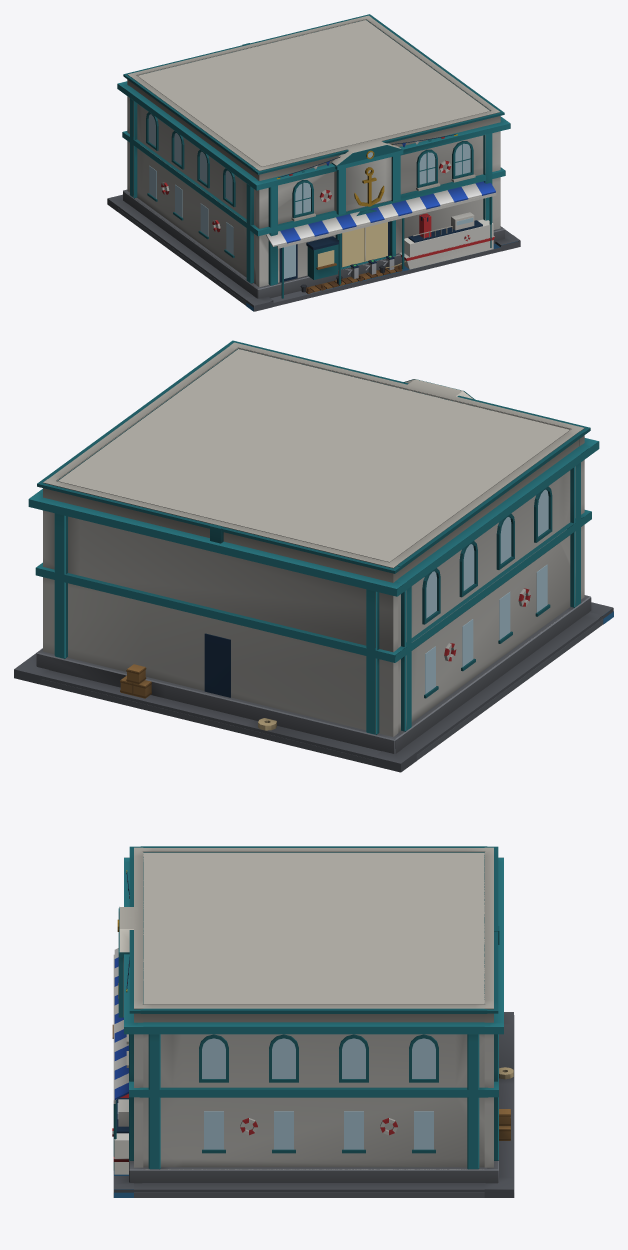
Rendered from DuckInspectorFloor.fbx.
3 renders of one model, top to bottom at view 1: azimuth 30°, elevation 25°; view 2: azimuth 150°, elevation 25°; view 3: azimuth 270°, elevation 25°, orthographic. The views are drawn at different scales.
Parts seen in each view (by area): view 1: DK_S_All, DK_F_Rings, DK_F_Smooth, DK_F_Glass, DK_F_Props, DK_F_Quiet; view 2: DK_F_Rings, DK_S_All, DK_F_Smooth, DK_F_Quiet, DK_F_Glass, DK_F_Props; view 3: DK_F_Rings, DK_S_All, DK_F_Smooth, DK_F_Glass, DK_F_Quiet, DK_F_Props.
Boxes of the visible parts, x1,y1,x2,y2 form: DK_S_All: (118, 20, 500, 311); DK_F_Rings: (118, 15, 509, 298); DK_F_Smooth: (107, 14, 520, 311); DK_F_Glass: (148, 114, 473, 278); DK_F_Props: (242, 43, 495, 279); DK_F_Quiet: (108, 194, 519, 305); DK_F_Rings: (29, 342, 598, 753); DK_S_All: (41, 349, 602, 772); DK_F_Smooth: (14, 340, 613, 772); DK_F_Quiet: (14, 602, 612, 763); DK_F_Glass: (425, 489, 548, 694); DK_F_Props: (120, 524, 271, 730); DK_F_Rings: (118, 847, 503, 1183); DK_S_All: (113, 852, 514, 1197); DK_F_Smooth: (112, 846, 513, 1197); DK_F_Glass: (117, 1038, 435, 1149); DK_F_Quiet: (114, 1012, 513, 1189); DK_F_Props: (113, 926, 513, 1159).
Bounding box in the file's own units: 60 × 20 × 60.
